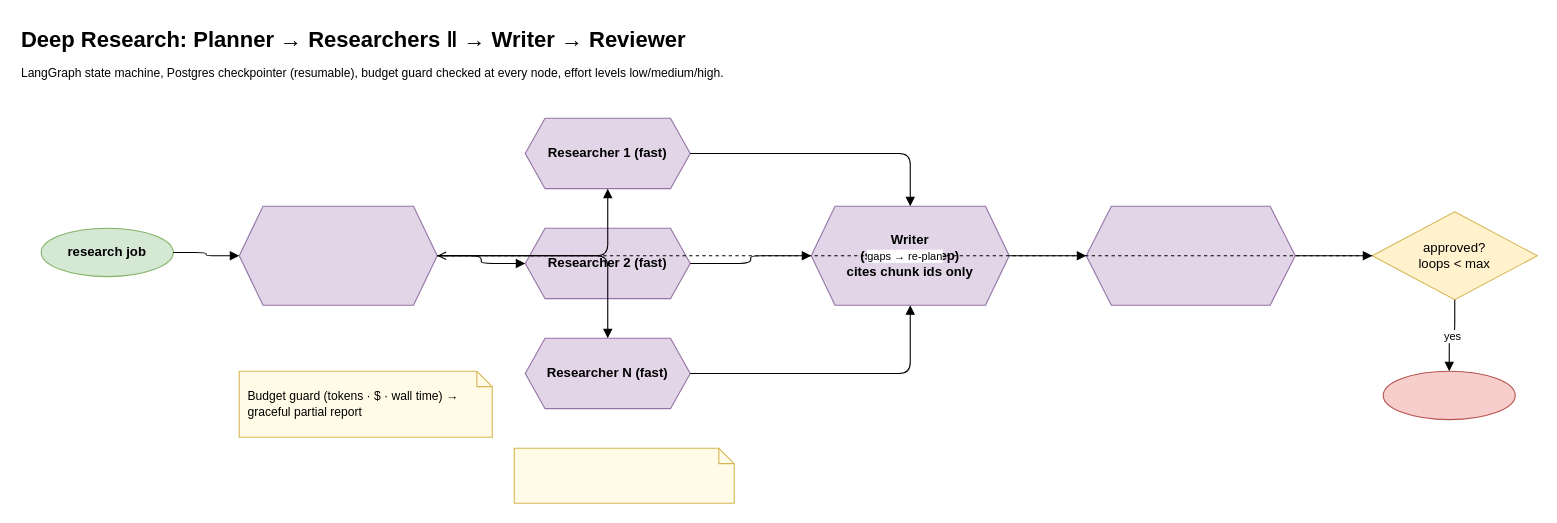
Image size: 1557x523. Some labels were removed from this diagram. The box of each missing label's shape, as (x1, y1, x2, y2) in pixels:
Planner (standard tier) sub-questions + outline: (238, 205, 437, 305)
Report + citations: (1382, 370, 1515, 420)
Reviewer coverage · support · contradictions: (1085, 205, 1295, 305)
Tools: kb_search · web_search (opt) · fetch: (513, 447, 734, 503)
